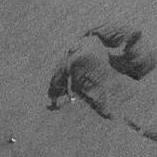anomaly: (35, 22, 157, 142)
